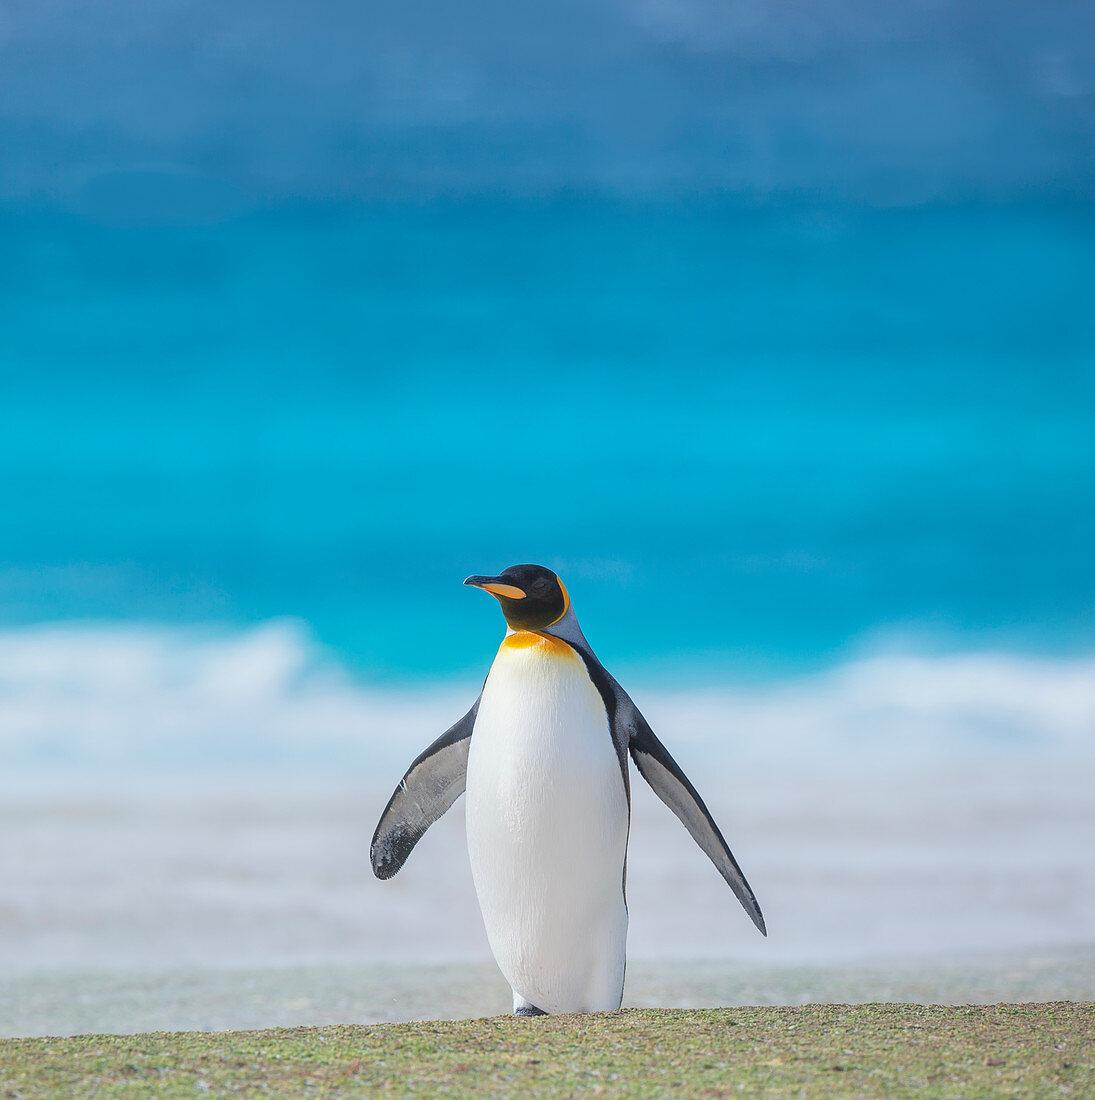king: (343, 505, 855, 1059)
